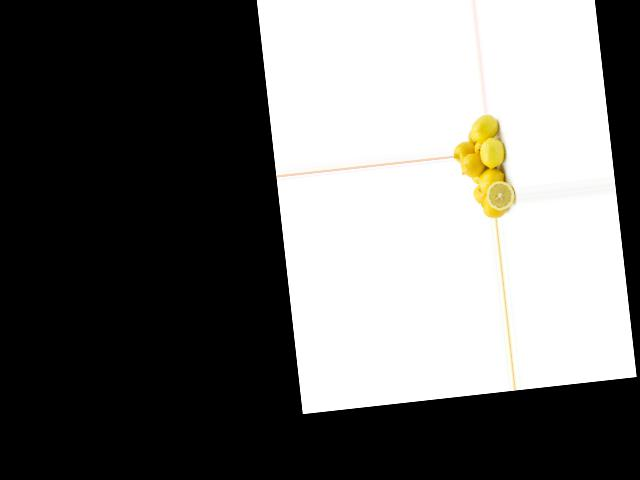lemon: (481, 193, 506, 217)
